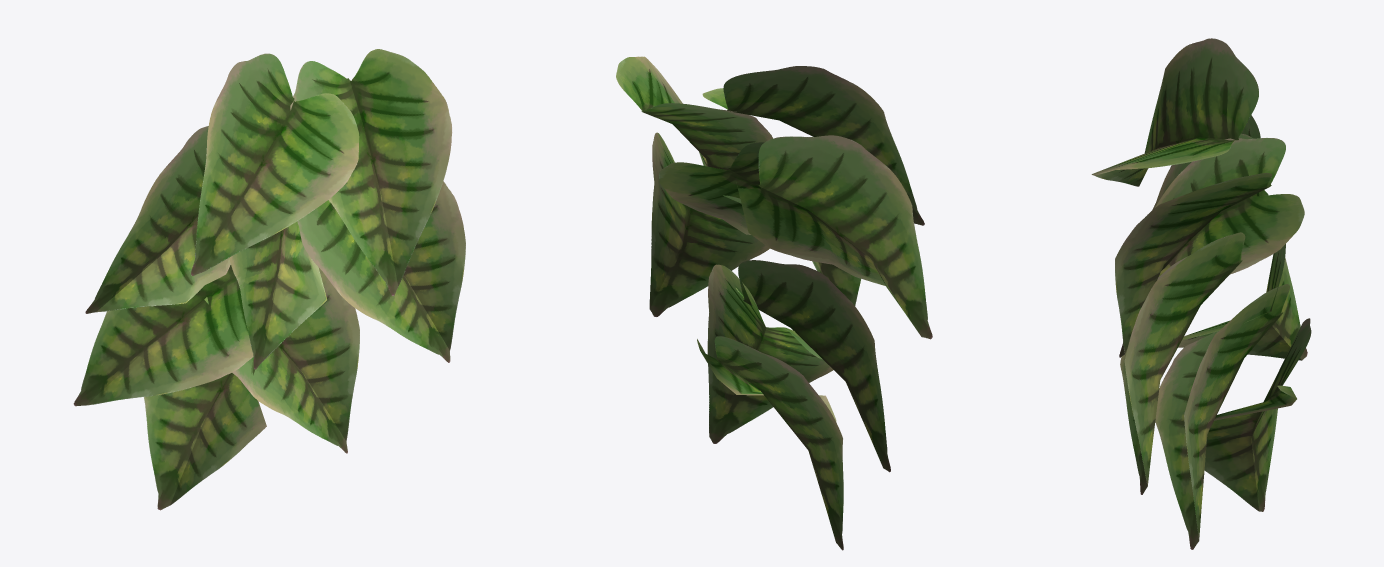
The model's file is TreeTaroPlant.fbx.
3 views of the same model, side by side, from view 1: azimuth 30°, elevation 25°; view 2: azimuth 150°, elevation 25°; view 3: azimuth 270°, elevation 25° (orthographic). The views are drawn at different scales.
Visible parts, largest first — view 1: TreeTaroPlant; view 2: TreeTaroPlant; view 3: TreeTaroPlant.
Part boxes in pixels (left/top/right/bottom): TreeTaroPlant: left=73, top=49, right=465, bottom=510; TreeTaroPlant: left=616, top=56, right=932, bottom=550; TreeTaroPlant: left=1091, top=38, right=1311, bottom=549.
Bounding box in the file's own units: 0.4173 × 0.4298 × 0.2495.
1 material, 1 textured.
